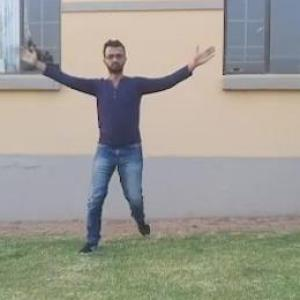takeoff: (39, 37, 225, 236)
